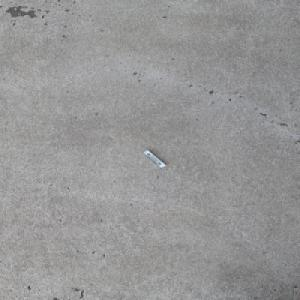ClampPart: (140, 149, 166, 168)
